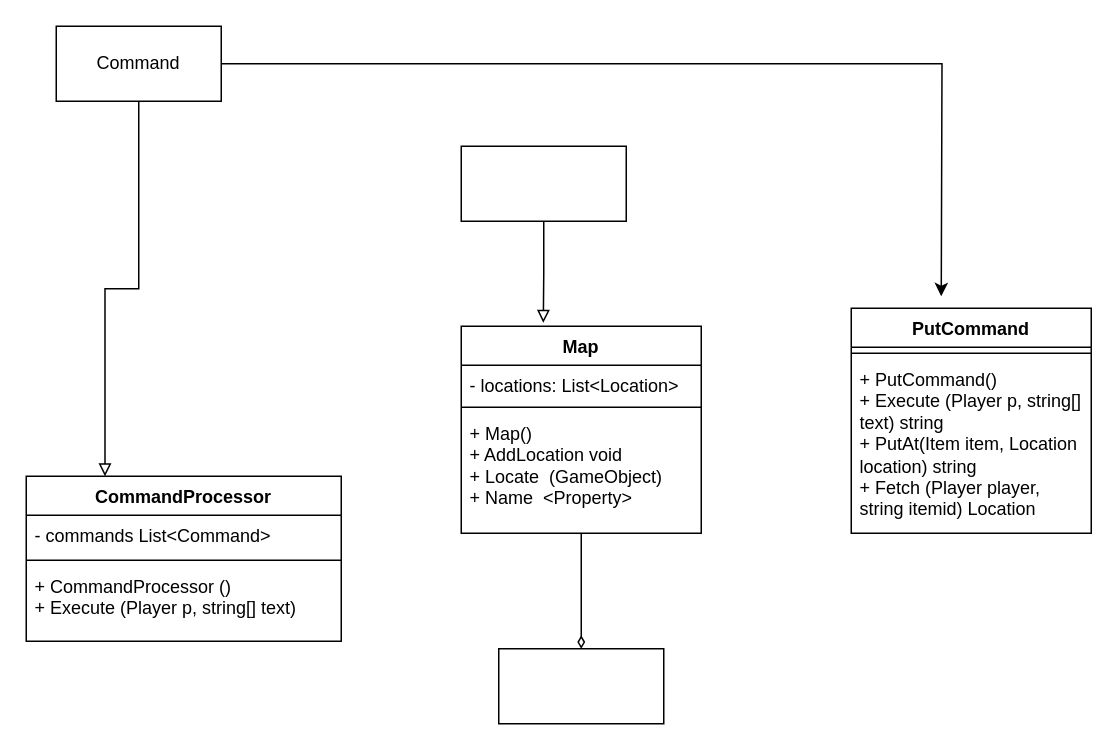
Image size: 1118x750. Some labels were removed from this diagram. The centre of each missing label's shape, as x and y in pixels:
IHaveInventory: [543,183]
Player: [580,685]
